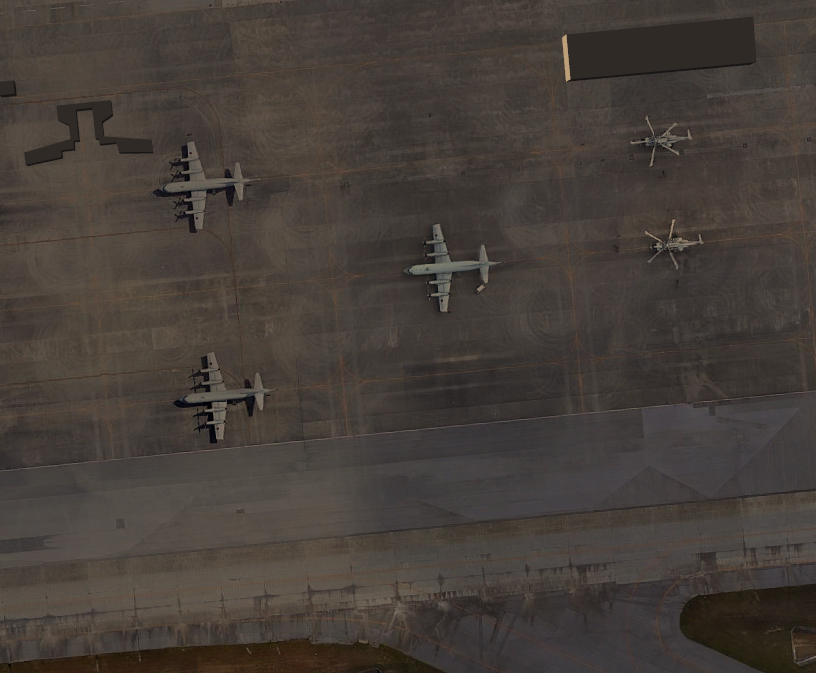A9: (399, 218, 516, 318), (154, 136, 266, 235), (174, 346, 286, 445)
